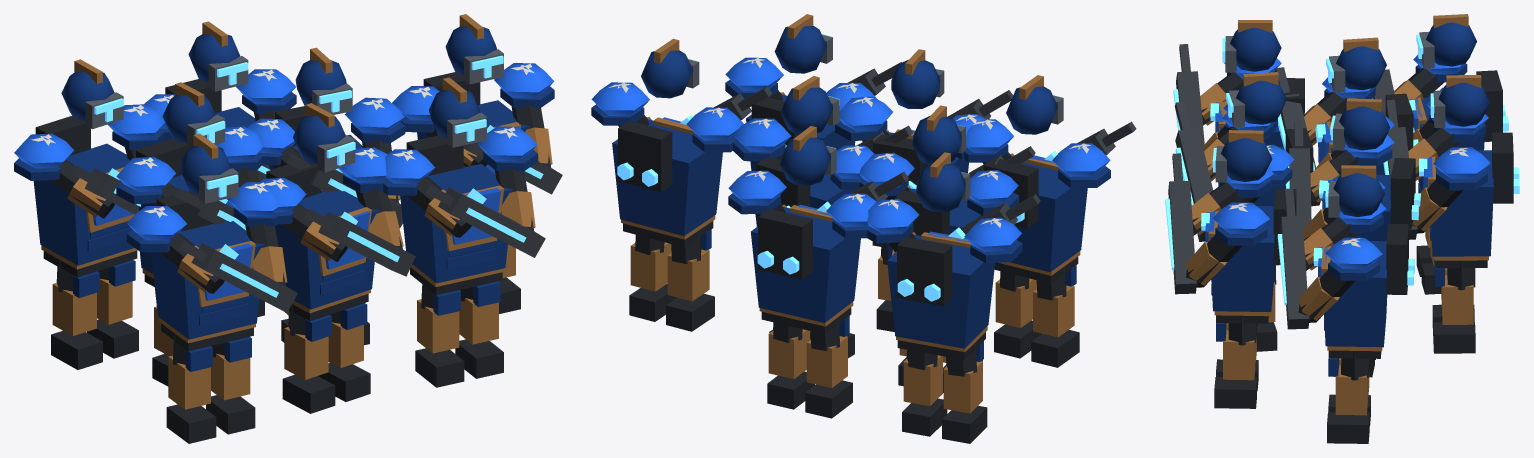
Rendered from squad_dl8_blue.glb.
3 renders of one model, left to right at view 1: azimuth 30°, elevation 25°; view 2: azimuth 150°, elevation 25°; view 3: azimuth 270°, elevation 25°, orthographic. The views are drawn at different scales.
Visible parts, largest first — view 1: squad_dl8_blue; view 2: squad_dl8_blue; view 3: squad_dl8_blue.
Boxes of the visible parts, box(x1,y1,x2,y2) form: squad_dl8_blue: box(14, 14, 562, 443); squad_dl8_blue: box(591, 14, 1136, 443); squad_dl8_blue: box(1165, 14, 1519, 443).
Size of the model in its own units: 0.746 by 0.4189 by 0.5139.
2 materials, 1 textured.
